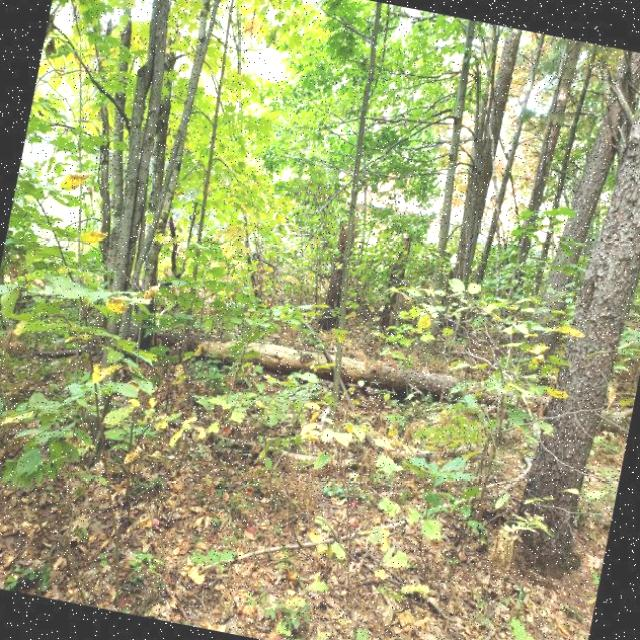fallen_object: (27, 271, 637, 455)
